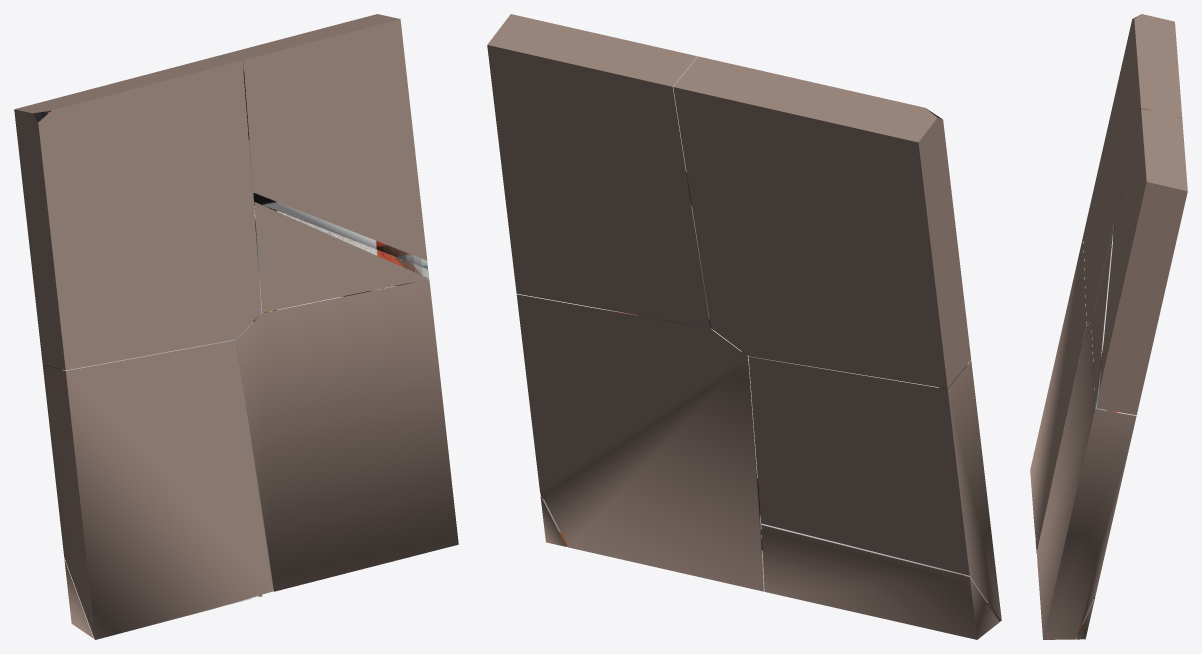
The model's file is chair_top_DEST.fbx.
3 renders of one model, left to right at view 1: azimuth 30°, elevation 25°; view 2: azimuth 150°, elevation 25°; view 3: azimuth 270°, elevation 25°, orthographic. The views are drawn at different scales.
Parts seen in each view (by area): view 1: polySurface219_cell.001, polySurface219_cell.005, polySurface219_cell.004, polySurface219_cell.002, polySurface219_cell.003, polySurface219_cell.006; view 2: polySurface219_cell.001, polySurface219_cell.005, polySurface219_cell.002, polySurface219_cell.004, polySurface219_cell.006; view 3: polySurface219_cell.002, polySurface219_cell.005, polySurface219_cell.001, polySurface219_cell.004, polySurface219_cell.003.
Part boxes in pixels (bbox=[...]): polySurface219_cell.001: bbox=[14, 55, 261, 370]; polySurface219_cell.005: bbox=[236, 279, 458, 591]; polySurface219_cell.004: bbox=[42, 339, 273, 639]; polySurface219_cell.002: bbox=[221, 14, 427, 268]; polySurface219_cell.003: bbox=[254, 202, 429, 312]; polySurface219_cell.006: bbox=[64, 559, 273, 638]; polySurface219_cell.001: bbox=[673, 56, 971, 388]; polySurface219_cell.005: bbox=[516, 294, 764, 591]; polySurface219_cell.002: bbox=[487, 14, 710, 327]; polySurface219_cell.004: bbox=[748, 356, 1001, 621]; polySurface219_cell.006: bbox=[761, 525, 999, 639]; polySurface219_cell.002: bbox=[1096, 108, 1187, 415]; polySurface219_cell.005: bbox=[1036, 323, 1136, 639]; polySurface219_cell.001: bbox=[1083, 14, 1182, 325]; polySurface219_cell.004: bbox=[1030, 236, 1086, 551]; polySurface219_cell.003: bbox=[1091, 229, 1113, 407].
Bounding box in the file's own units: 1.32 × 1.64 × 0.5141.
